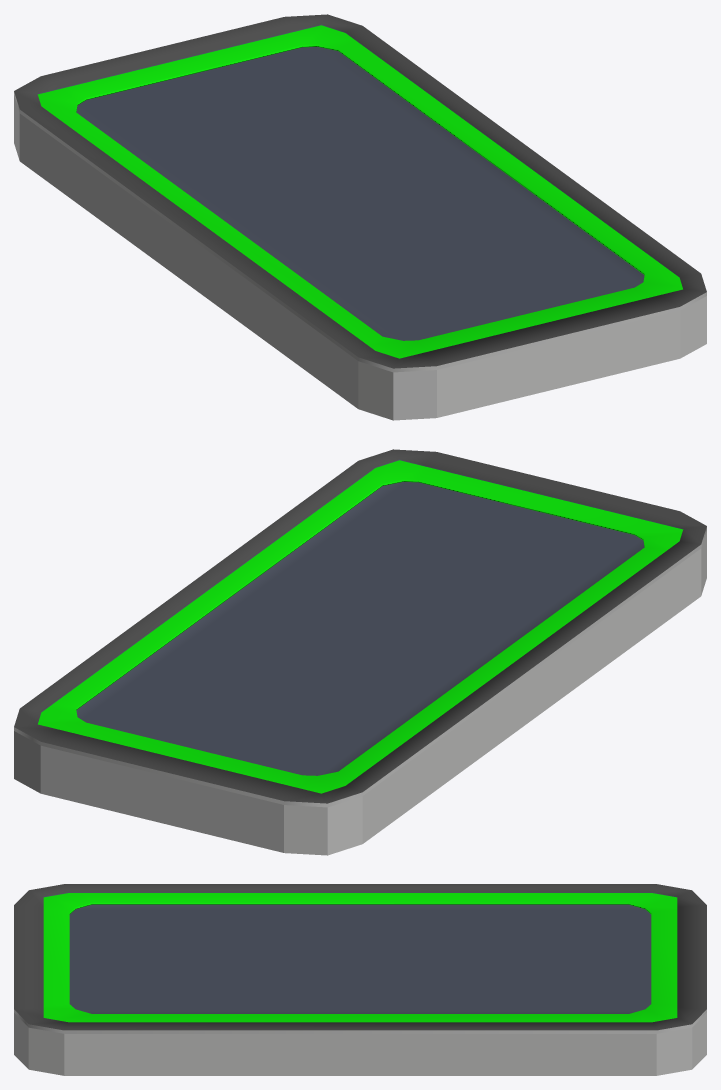
The model's file is Phone.fbx.
3 views of the same model, one above another, from view 1: azimuth 30°, elevation 25°; view 2: azimuth 150°, elevation 25°; view 3: azimuth 270°, elevation 25° (orthographic). The views are drawn at different scales.
Parts seen in each view (by area): view 1: phone, Ring; view 2: phone, Ring; view 3: phone, Ring.
Boxes of the visible parts, <box> form: phone: <box>14,14,706,420</box>; Ring: <box>37,25,682,358</box>; phone: <box>14,449,706,855</box>; Ring: <box>38,460,683,793</box>; phone: <box>14,884,706,1075</box>; Ring: <box>43,893,677,1022</box>.
Size of the model in its own units: 7.5 by 1.09 by 15.
